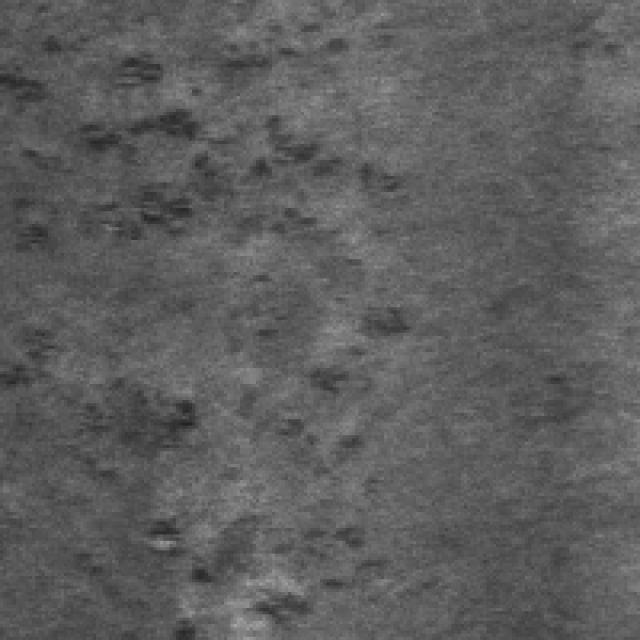rolled-in_scale: (0, 0, 400, 243), (70, 358, 381, 630)
